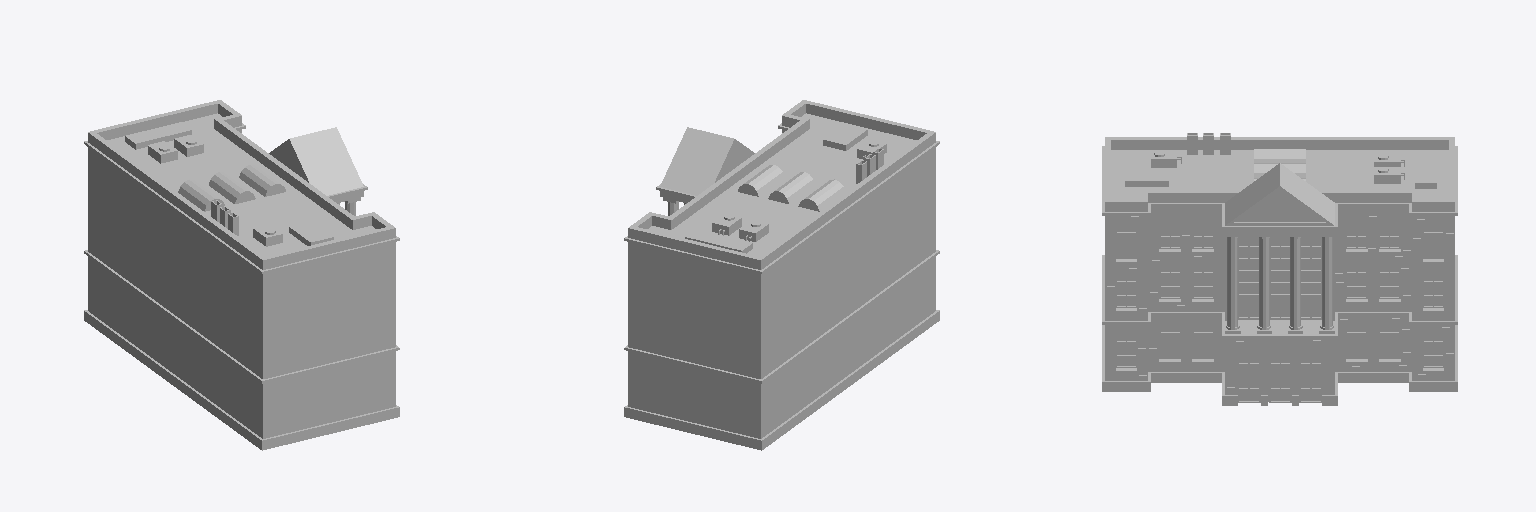
Rendered from School.obj.
3 views of the same model, side by side, from view 1: azimuth 30°, elevation 25°; view 2: azimuth 150°, elevation 25°; view 3: azimuth 270°, elevation 25° (orthographic).
Visible parts, largest first — view 1: School_Cube.001, Triangle_Cube, Side_h_Cube.000, Side_l_Cube.003, Cube.001_Cube.011, Cylinder, Cylinder.002_Cylinder.006, Cylinder.001_Cylinder.005, Cube_Cube.010; view 2: School_Cube.001, Triangle_Cube, Side_h_Cube.000, Side_l_Cube.003, Cylinder, Cylinder.002_Cylinder.006, Cylinder.001_Cylinder.005, Cube.001_Cube.011, Cube_Cube.010; view 3: School_Cube.001, Triangle_Cube, Columns_Cylinder.001, Windows_Cube.004, Sills_Cube.002, Side_l_Cube.003, Side_h_Cube.000, Brick_Cube.005, Windows_biggest_Cube.007, Doors_Cube.009, Cube_Cube.010, Cube.001_Cube.011 (+1 smaller).
Part boxes in pixels (left/top/right/bottom): School_Cube.001: left=84, top=100, right=399, bottom=450; Triangle_Cube: left=269, top=127, right=363, bottom=202; Side_h_Cube.000: left=84, top=123, right=399, bottom=273; Side_l_Cube.003: left=84, top=250, right=399, bottom=383; Cube.001_Cube.011: left=125, top=122, right=191, bottom=149; Cylinder: left=209, top=172, right=255, bottom=203; Cylinder.002_Cylinder.006: left=239, top=165, right=285, bottom=196; Cylinder.001_Cylinder.005: left=178, top=179, right=224, bottom=211; Cube_Cube.010: left=289, top=221, right=333, bottom=245; School_Cube.001: left=624, top=100, right=939, bottom=450; Triangle_Cube: left=660, top=127, right=754, bottom=202; Side_h_Cube.000: left=624, top=123, right=939, bottom=273; Side_l_Cube.003: left=624, top=250, right=939, bottom=383; Cylinder: left=768, top=172, right=814, bottom=203; Cylinder.002_Cylinder.006: left=738, top=165, right=784, bottom=196; Cylinder.001_Cylinder.005: left=798, top=179, right=845, bottom=211; Cube.001_Cube.011: left=685, top=229, right=752, bottom=253; Cube_Cube.010: left=823, top=124, right=867, bottom=150; School_Cube.001: left=1102, top=137, right=1457, bottom=405; Triangle_Cube: left=1225, top=163, right=1334, bottom=235; Columns_Cylinder.001: left=1225, top=236, right=1334, bottom=333; Windows_Cube.004: left=1116, top=214, right=1443, bottom=367; Sills_Cube.002: left=1116, top=249, right=1443, bottom=372; Side_l_Cube.003: left=1102, top=255, right=1457, bottom=338; Side_h_Cube.000: left=1102, top=146, right=1457, bottom=228; Brick_Cube.005: left=1106, top=207, right=1453, bottom=389; Windows_biggest_Cube.007: left=1238, top=237, right=1321, bottom=319; Doors_Cube.009: left=1238, top=351, right=1321, bottom=402; Cube_Cube.010: left=1125, top=169, right=1168, bottom=186; Cube.001_Cube.011: left=1415, top=155, right=1436, bottom=188.
Size of the model in its own units: 1.75 by 2.2 by 3.25.